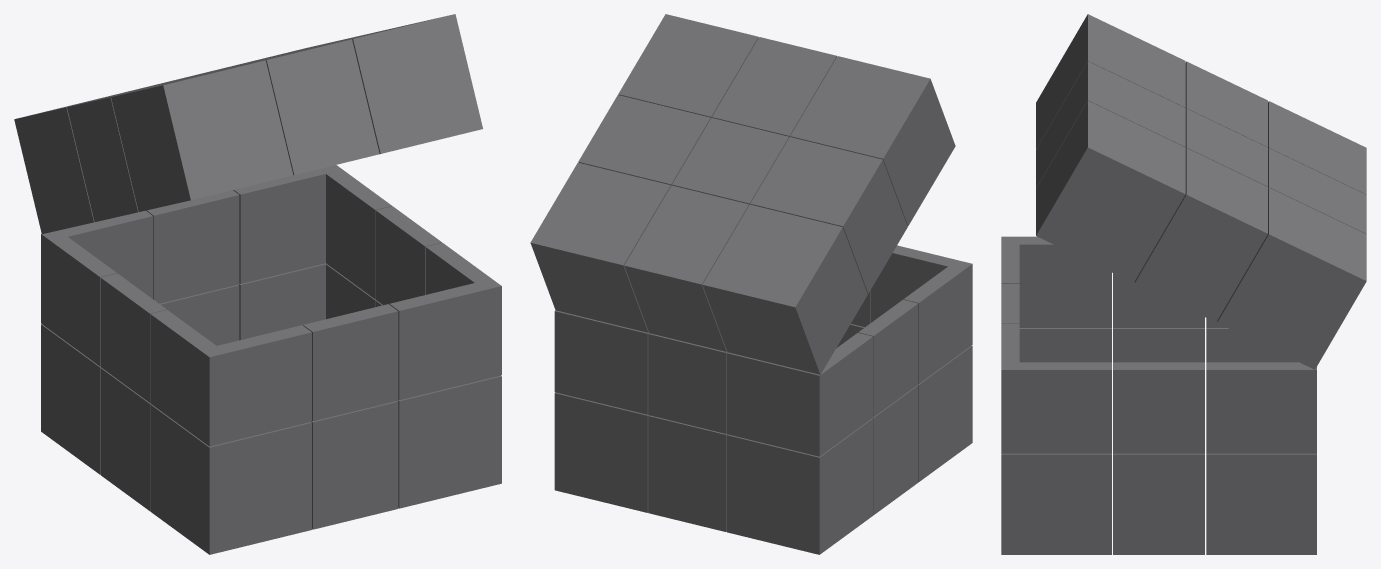
Rendered from SM_BootBox.fbx.
3 renders of one model, left to right at view 1: azimuth 30°, elevation 25°; view 2: azimuth 150°, elevation 25°; view 3: azimuth 270°, elevation 25°, orthographic. The views are drawn at different scales.
Visible parts, largest first — view 1: pCube15, pCube14; view 2: pCube14, pCube15; view 3: pCube15, pCube14.
Part boxes in pixels (box(x1,y1,x2,y2)): pCube15: box(41, 165, 501, 554); pCube14: box(14, 14, 482, 234); pCube14: box(530, 14, 955, 374); pCube15: box(554, 245, 972, 554); pCube15: box(1001, 236, 1316, 554); pCube14: box(1036, 14, 1366, 369).
Bounding box in the file's own units: 3.42 × 4.88 × 3.96.
1 material, 1 textured.
